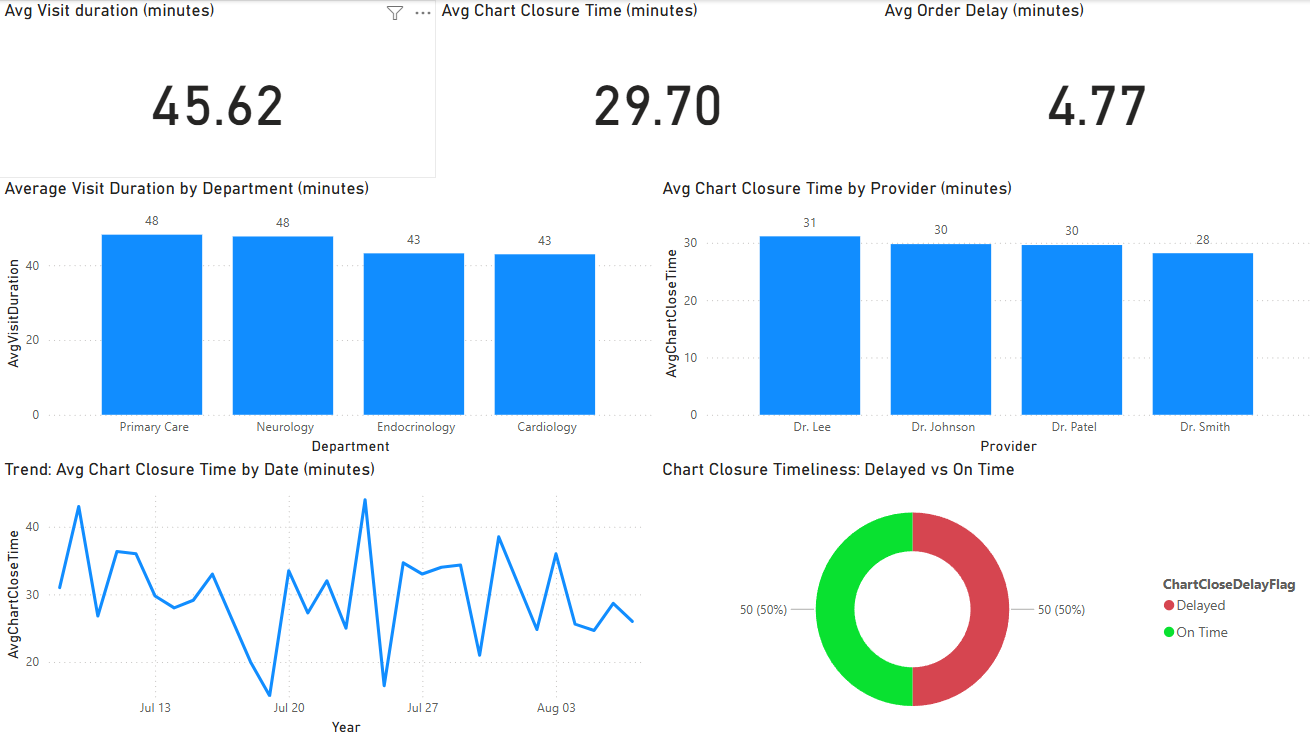

The dashboard page shown, as its layout file describes it:
{"tool":"powerbi","page":{"name":"Page 1","canvas":[1280,720],"ordinal":0},"visuals":[{"type":"clusteredColumnChart","title":"Average Visit Duration by Department (minutes)","fields":{"Category":["epic_outpatient_mock_data.Department"],"Y":["epic_outpatient_mock_data.AvgVisitDuration"]},"box":[0,173.1,640,273.3],"z":0},{"type":"clusteredColumnChart","title":"Avg Chart Closure Time by Provider (minutes)","fields":{"Category":["epic_outpatient_mock_data.Provider"],"Y":["epic_outpatient_mock_data.AvgChartCloseTime"]},"box":[640,173.1,640,273.3],"z":1000},{"type":"lineChart","title":"Trend: Avg Chart Closure Time by Date (minutes)","fields":{"Y":["epic_outpatient_mock_data.AvgChartCloseTime"],"Category":["epic_outpatient_mock_data.VisitDate.Variation.Date Hierarchy.Year","epic_outpatient_mock_data.VisitDate.Variation.Date Hierarchy.Quarter","epic_outpatient_mock_data.VisitDate.Variation.Date Hierarchy.Month","epic_outpatient_mock_data.VisitDate.Variation.Date Hierarchy.Day"]},"box":[0,446.4,640,273.3],"z":2000},{"type":"donutChart","title":"Chart Closure Timeliness: Delayed vs On Time","fields":{"Category":["epic_outpatient_mock_data.ChartCloseDelayFlag"],"Y":["epic_outpatient_mock_data.PatientID"]},"box":[640,446.4,640,273.3],"z":2001},{"type":"card","title":"Avg Visit duration (minutes)","fields":{"Values":["epic_outpatient_mock_data.AvgVisitDuration"]},"box":[0,0,425,173.1],"z":2002},{"type":"card","title":"Avg Chart Closure Time (minutes)","fields":{"Values":["epic_outpatient_mock_data.AvgChartCloseTime"]},"box":[425,0,430.9,173.1],"z":2003},{"type":"card","title":"Avg Order Delay (minutes)","fields":{"Values":["epic_outpatient_mock_data.AvgOrderEntryDelay"]},"box":[855.9,0,424.1,173.1],"z":2004}]}

Visuals, with their boxes in screenshot pixels (x1, y1, x2, y2), scaled from the page's 1280x720 canvas onto the 1310x737 screenshot:
"Average Visit Duration by Department (minutes)" clusteredColumnChart: (0,177,655,457)
"Avg Chart Closure Time by Provider (minutes)" clusteredColumnChart: (655,177,1309,457)
"Trend: Avg Chart Closure Time by Date (minutes)" lineChart: (0,457,655,736)
"Chart Closure Timeliness: Delayed vs On Time" donutChart: (655,457,1309,736)
"Avg Visit duration (minutes)" card: (0,0,435,177)
"Avg Chart Closure Time (minutes)" card: (435,0,876,177)
"Avg Order Delay (minutes)" card: (876,0,1309,177)
